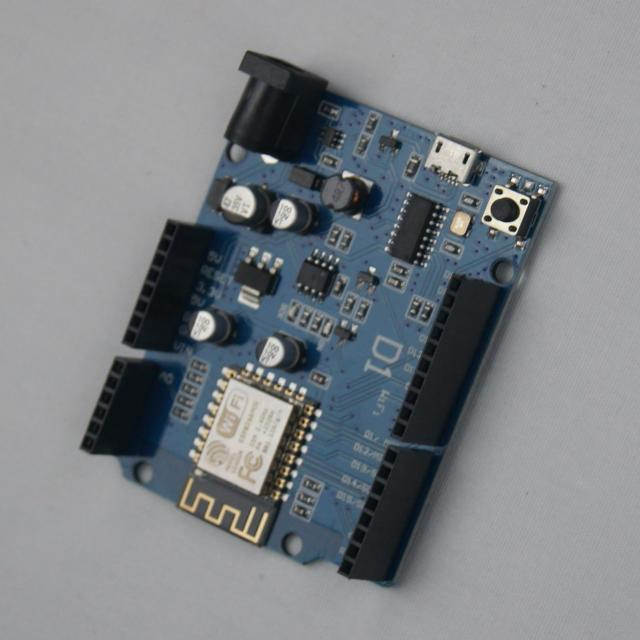Arduino Uno WiFi Shield: (82, 52, 556, 584)
